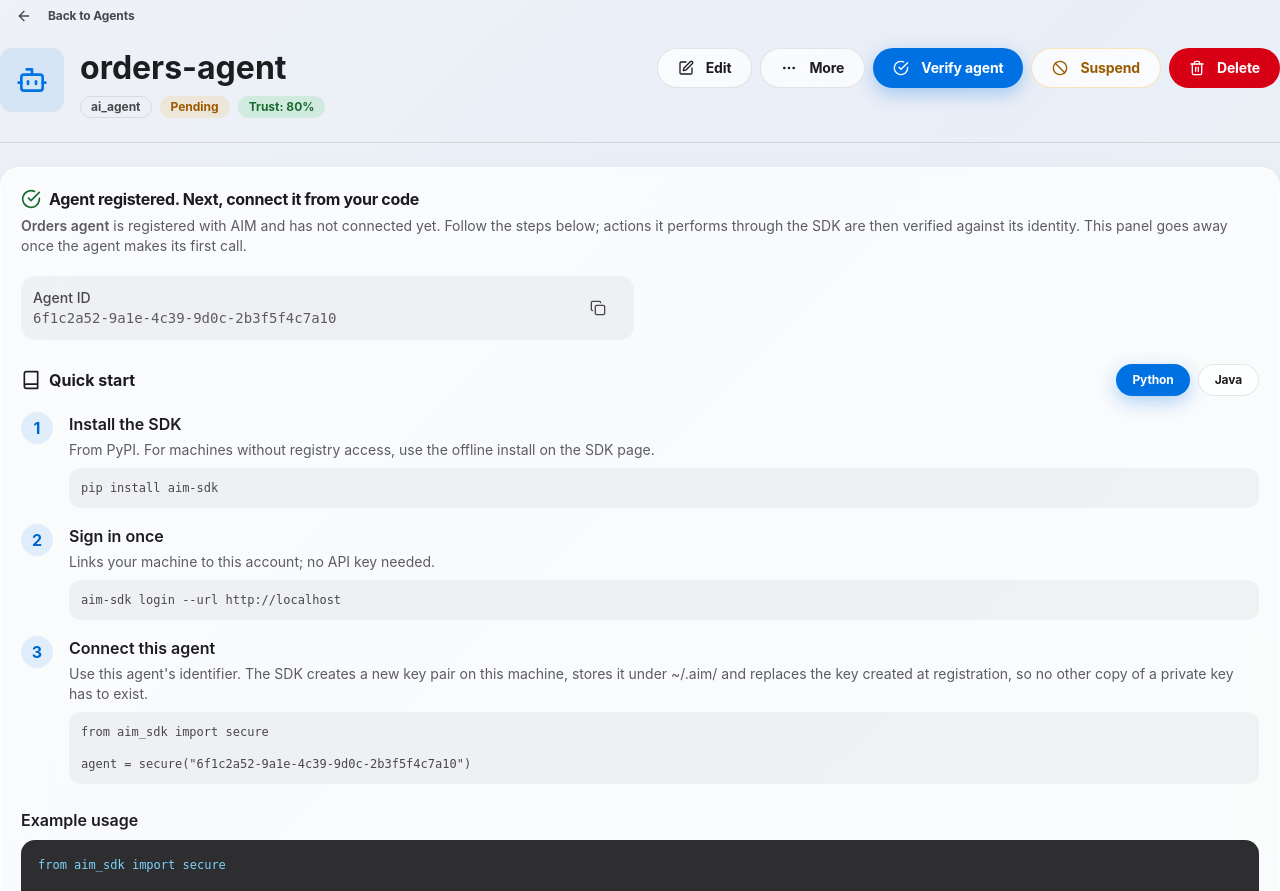
Scenario: agent page lifecycle outcomes › names the role when verifying is refused, and can be dismissed
This screenshot has width=1280, height=891.
Click the button "Verify agent" at point(948, 68), box top-left (873, 48), bottom-right (1024, 88)
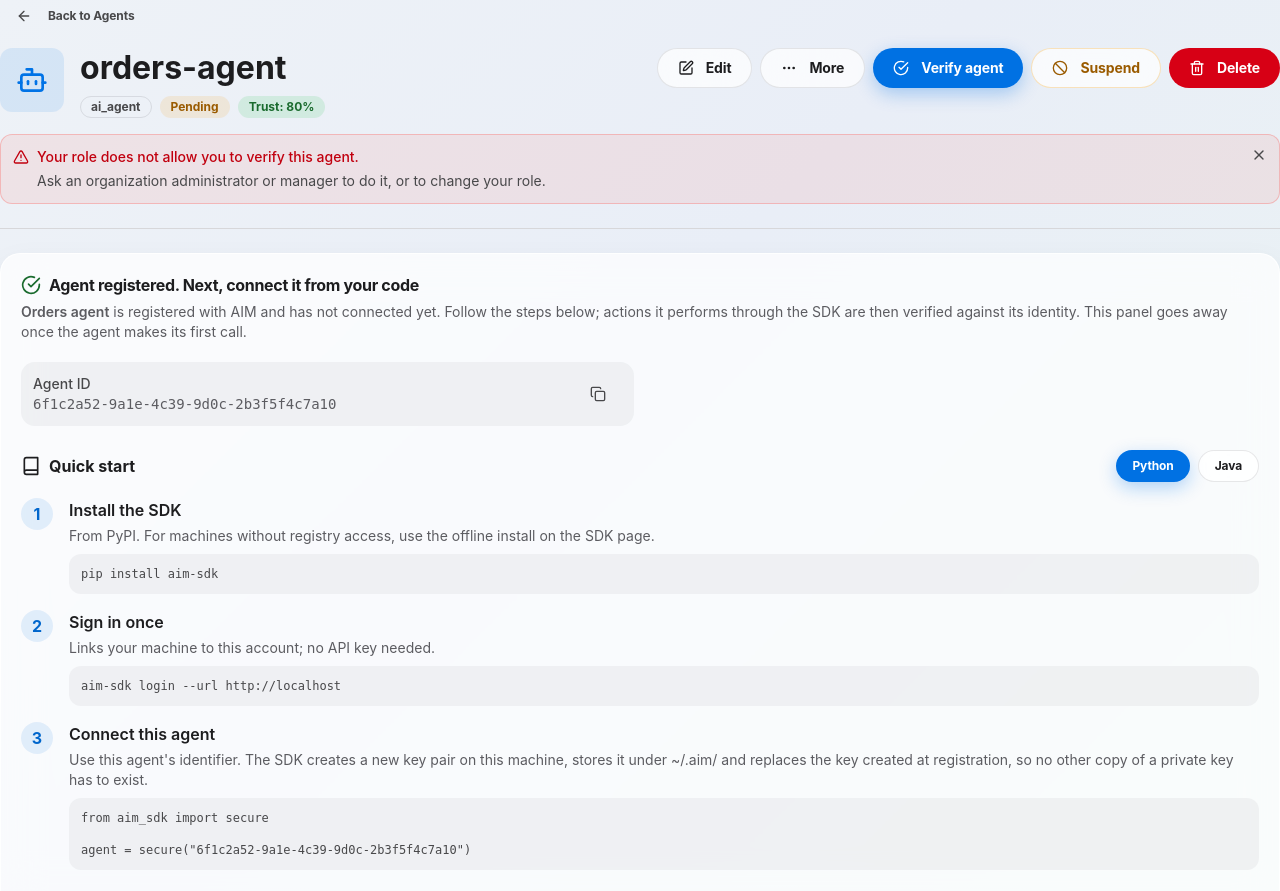
Check: the text "Your role does not allow you to verify this agent." is shown, box top-left (37, 148), bottom-right (359, 165)
Click the button named "Dismiss" at point(1259, 155), box top-left (1247, 143), bottom-right (1271, 167)
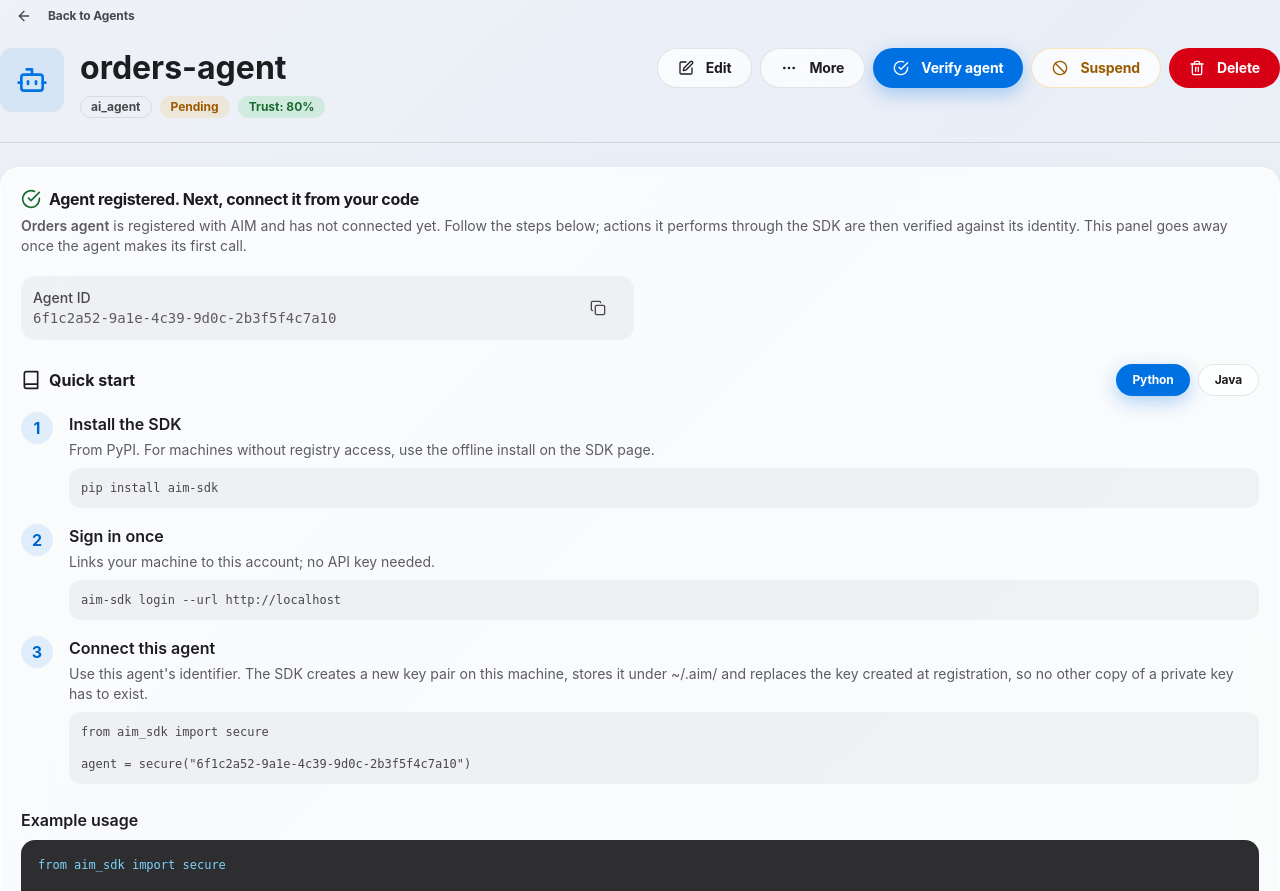
Check: the message is gone
